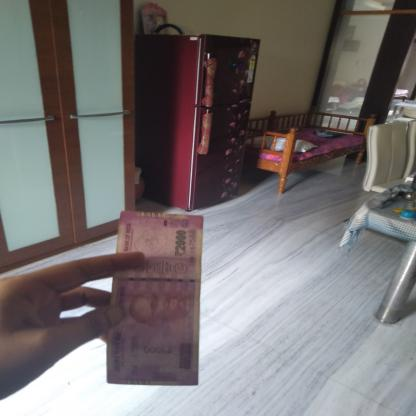New2000Front: (109, 211, 198, 384)
